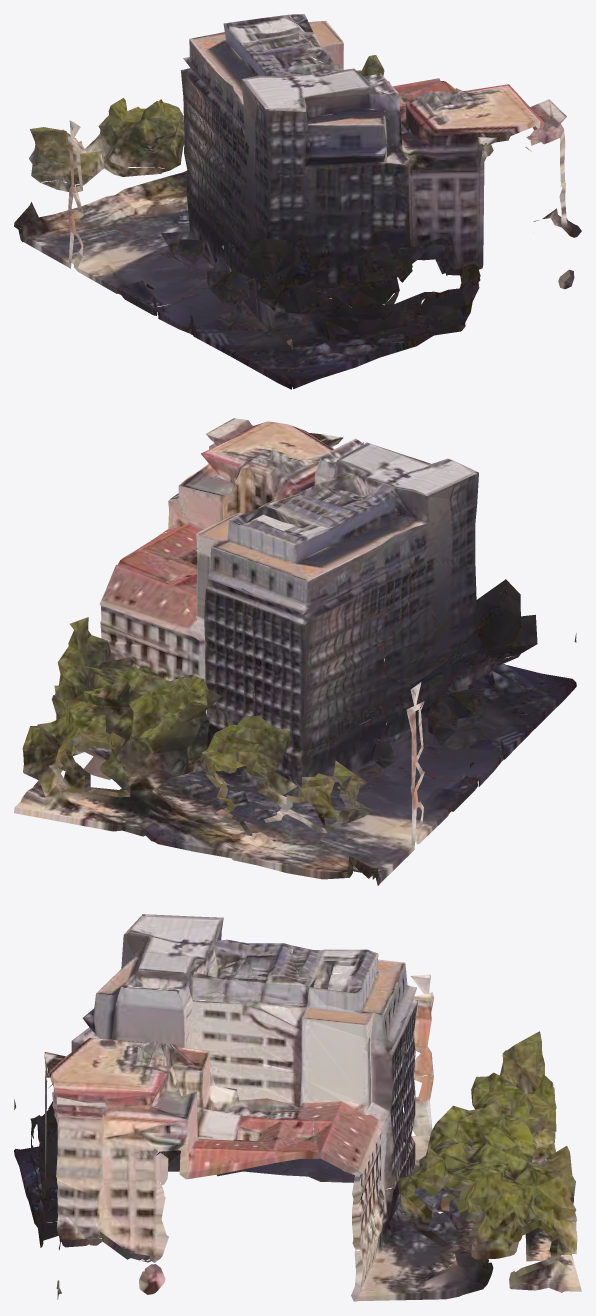
The picture shows the model from 3 angles, top to bottom: view 1: azimuth 30°, elevation 25°; view 2: azimuth 150°, elevation 25°; view 3: azimuth 270°, elevation 25°; orthographic projection. The views are drawn at different scales.
Visible parts, largest first — view 1: Mesh_0; view 2: Mesh_0; view 3: Mesh_0.
Part boxes in pixels (x1,y1,x2,y2): Mesh_0: (14,14,581,389); Mesh_0: (14,418,576,885); Mesh_0: (14,914,581,1301).
Size of the model in its own units: 67.17 by 42.98 by 82.55.
1 material, 1 textured.
